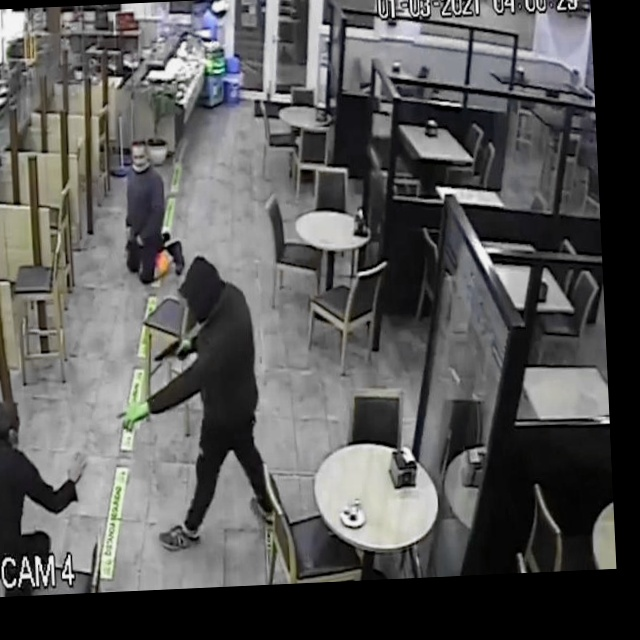gun: (141, 329, 202, 379)
